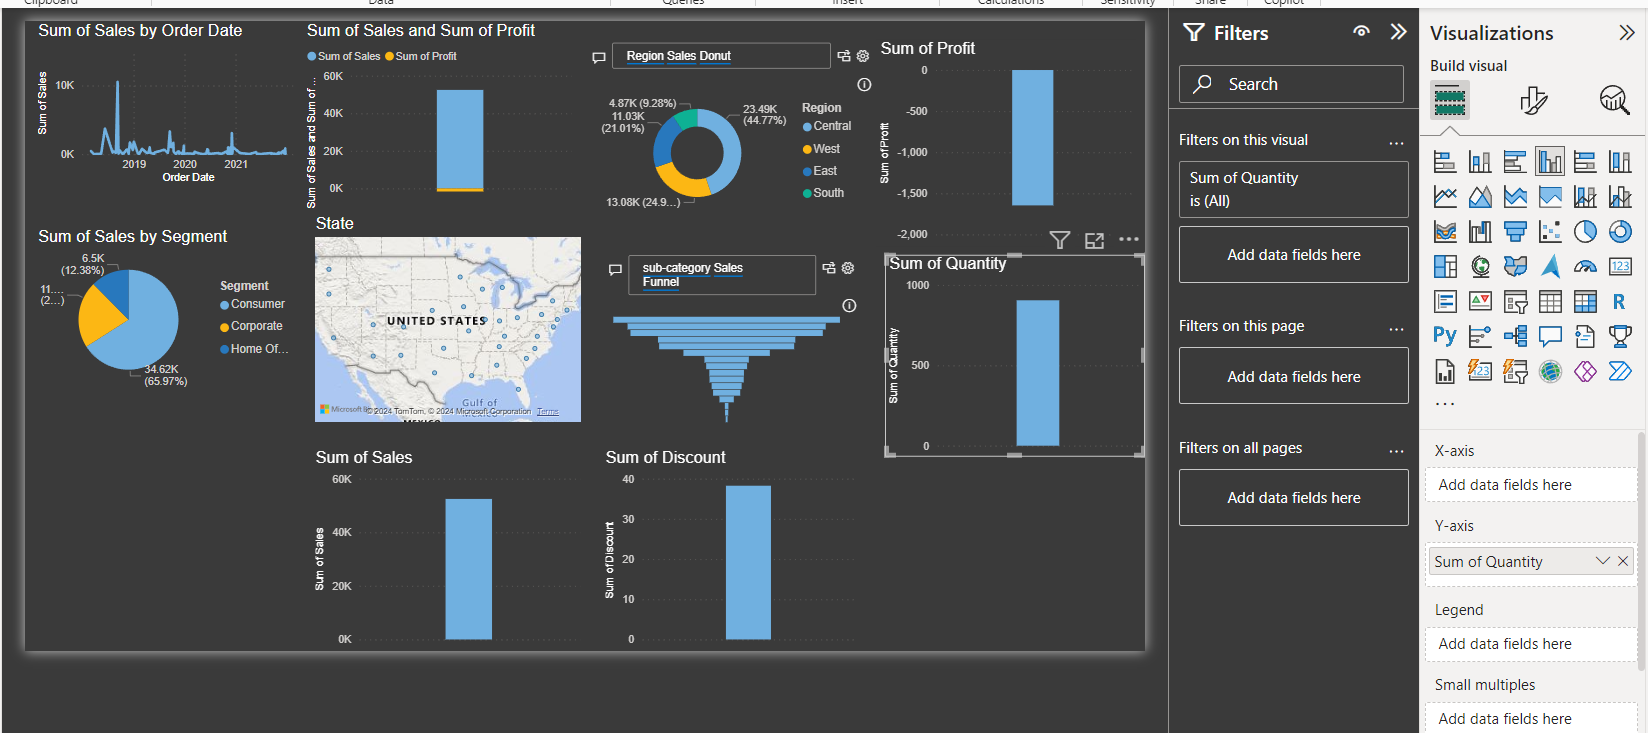

The dashboard page shown, as its layout file describes it:
{"tool":"powerbi","page":{"name":"Page 1","canvas":[1280,720],"ordinal":0},"visuals":[{"type":"lineChart","fields":{"Category":["Sheet1.Order Date"],"Y":["Sum(Sheet1.Sales)"]},"box":[10,0,307,191],"z":0},{"type":"pieChart","fields":{"Category":["Sheet1.Segment"],"Y":["Sum(Sheet1.Sales)"]},"box":[10,235.7,307.1,484.3],"z":1000},{"type":"columnChart","fields":{"Y":["Sum(Sheet1.Sales)","Sum(Sheet1.Profit)"]},"box":[317,0,313,219],"z":2000},{"type":"map","fields":{"Category":["Sheet1.State"]},"box":[316.1,219.6,312.5,241.3],"z":3000},{"type":"qnaVisual","box":[640,0,332.9,235.7],"z":4000},{"type":"qnaVisual","box":[658.6,242.9,297.1,235.7],"z":5000},{"type":"clusteredColumnChart","fields":{"Y":["Sum(Sheet1.Profit)"]},"box":[972.9,21.4,297.1,235.7],"z":6000},{"type":"clusteredColumnChart","fields":{"Y":["Sum(Sheet1.Quantity)"]},"box":[982.9,267.1,297.1,231.4],"z":7000},{"type":"clusteredColumnChart","fields":{"Y":["Sum(Sheet1.Discount)"]},"box":[658.6,488.6,621.4,231.4],"z":8000},{"type":"clusteredColumnChart","fields":{"Y":["Sum(Sheet1.Sales)"]},"box":[327.1,488.6,312.9,231.4],"z":9000}]}

Visuals, with their boxes on the page's 1280x720 design canvas (x1, y1, x2, y2). These are canvas units, not pixel positions in the 1648x733 screenshot, which may show the page scaled, cropped or inside an application window:
lineChart - Sheet1.Order Date x Sum(Sheet1.Sales): bbox=(10, 0, 317, 191)
pieChart - Sheet1.Segment x Sum(Sheet1.Sales): bbox=(10, 236, 317, 720)
columnChart - Sum(Sheet1.Sales) x Sum(Sheet1.Profit): bbox=(317, 0, 630, 219)
map - Sheet1.State: bbox=(316, 220, 629, 461)
qnaVisual: bbox=(640, 0, 973, 236)
qnaVisual: bbox=(659, 243, 956, 479)
clusteredColumnChart - Sum(Sheet1.Profit): bbox=(973, 21, 1270, 257)
clusteredColumnChart - Sum(Sheet1.Quantity): bbox=(983, 267, 1280, 498)
clusteredColumnChart - Sum(Sheet1.Discount): bbox=(659, 489, 1280, 720)
clusteredColumnChart - Sum(Sheet1.Sales): bbox=(327, 489, 640, 720)
